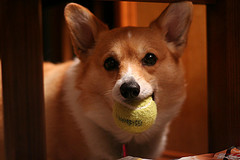tennis ball: (112, 92, 158, 134)
